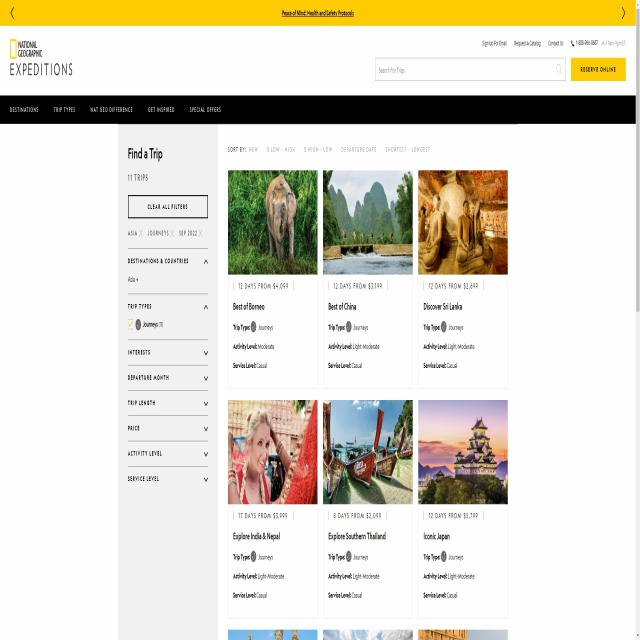menu-panel: (118, 124, 218, 510)
search: (374, 56, 567, 83)
tab-bar: (4, 97, 226, 121)
